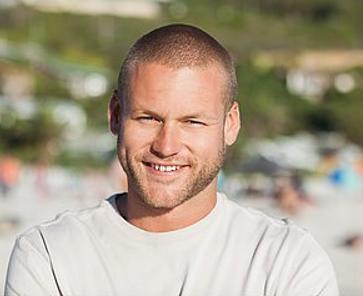Sober: (124, 58, 228, 208)
